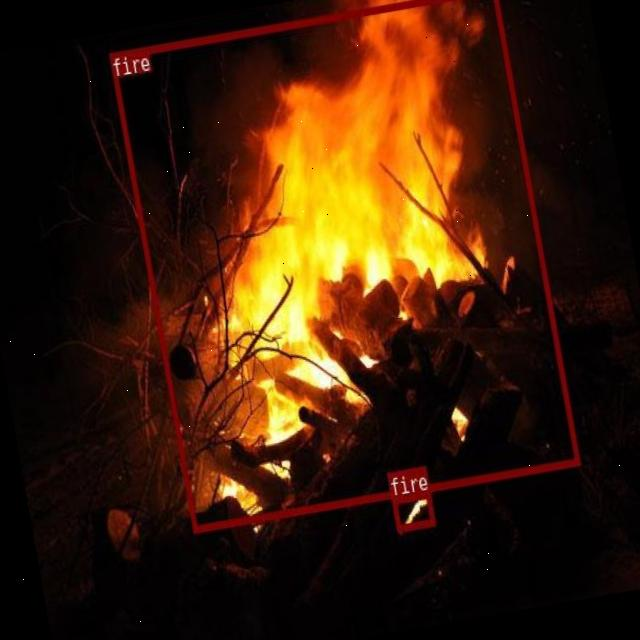fire: (108, 0, 579, 531), (391, 491, 434, 531)
